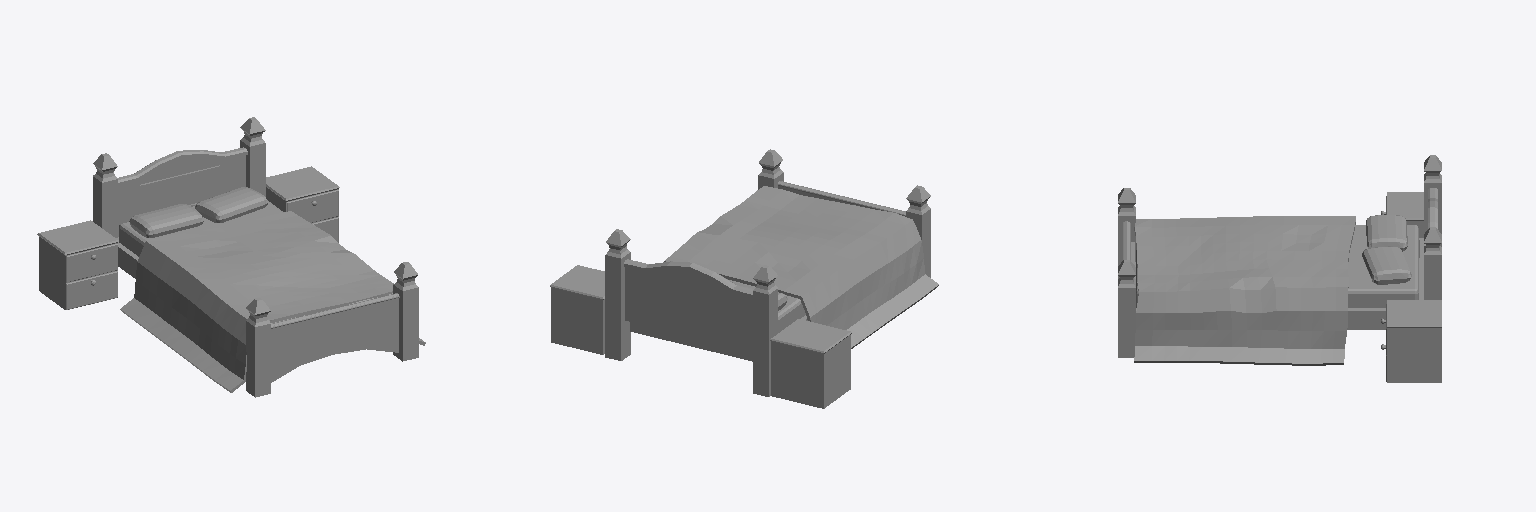
The model's file is bed.obj.
3 views of the same model, side by side, from view 1: azimuth 30°, elevation 25°; view 2: azimuth 150°, elevation 25°; view 3: azimuth 270°, elevation 25° (orthographic).
Visible parts, largest first — view 1: Cube.004_Cube.007; view 2: Cube.004_Cube.007; view 3: Cube.004_Cube.007.
Boxes of the visible parts, box(x1,y1,x2,y2) form: Cube.004_Cube.007: box(37, 117, 425, 397); Cube.004_Cube.007: box(550, 149, 938, 408); Cube.004_Cube.007: box(1118, 155, 1441, 382).
Size of the model in its own units: 2.8 by 1.23 by 2.86.